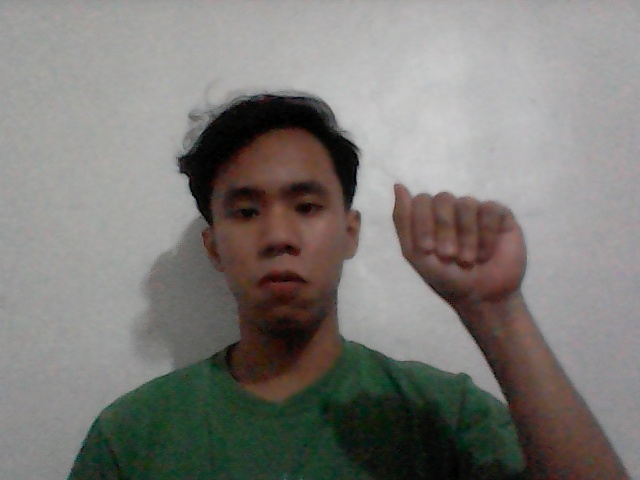A: (368, 158, 551, 345)
